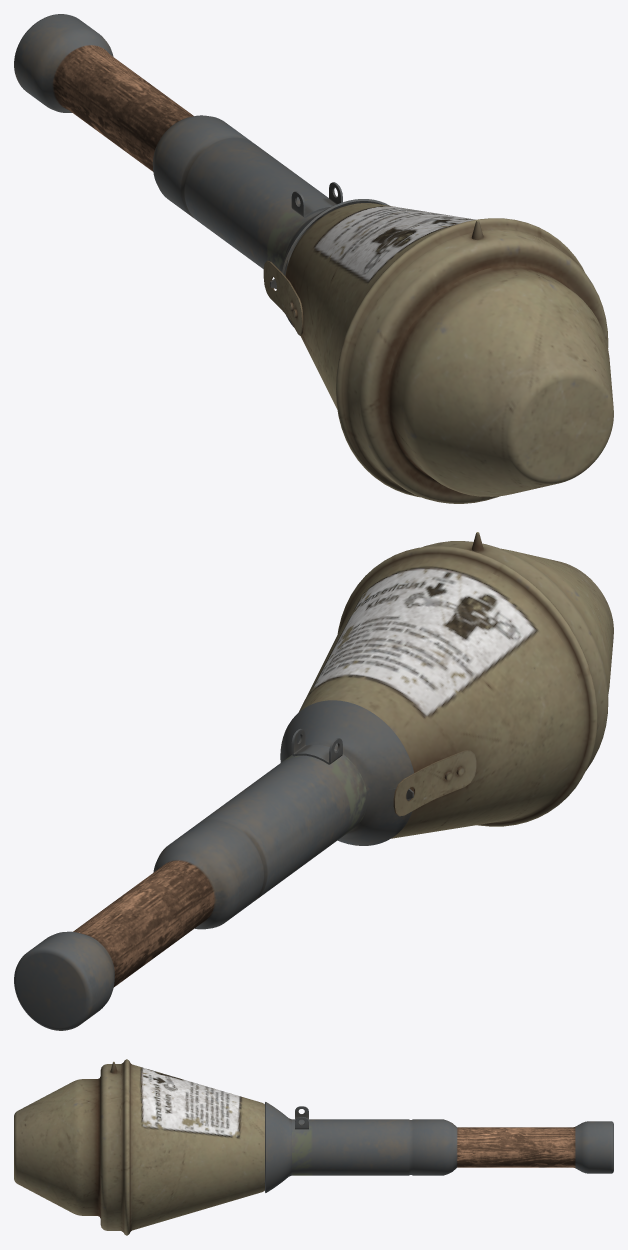
The model's file is SM_FPVM_PzfWarhead.fbx.
The picture shows the model from 3 angles, top to bottom: view 1: azimuth 30°, elevation 25°; view 2: azimuth 150°, elevation 25°; view 3: azimuth 270°, elevation 25°; orthographic projection. The views are drawn at different scales.
Visible parts, largest first — view 1: SM_FPVM_PzfWarhead; view 2: SM_FPVM_PzfWarhead; view 3: SM_FPVM_PzfWarhead.
Part boxes in pixels (bbox=[...]): SM_FPVM_PzfWarhead: bbox=[14, 14, 613, 503]; SM_FPVM_PzfWarhead: bbox=[14, 532, 613, 1030]; SM_FPVM_PzfWarhead: bbox=[14, 1059, 613, 1235].
Bounding box in the file's own units: 14.75 × 50.19 × 15.25.
